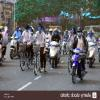motorcycles: (69, 46, 85, 84), (49, 42, 62, 70), (86, 40, 98, 68), (9, 34, 21, 58)
